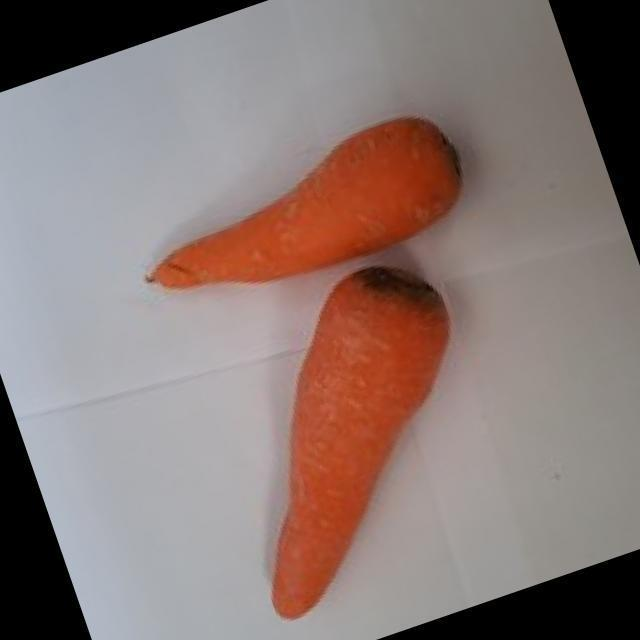Carrot: (272, 266, 450, 618), (148, 118, 461, 288), (149, 118, 461, 288)
